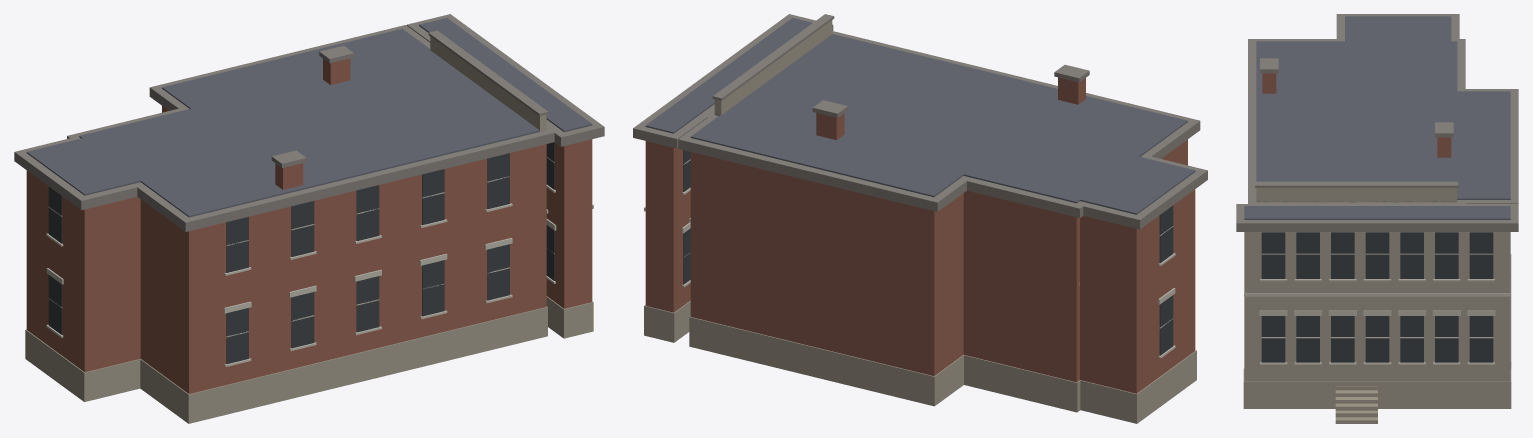
Rendered from goodman_house_1612_prairie__draft_1904.glb.
3 views of the same model, side by side, from view 1: azimuth 30°, elevation 25°; view 2: azimuth 150°, elevation 25°; view 3: azimuth 270°, elevation 25° (orthographic). The views are drawn at different scales.
Parts seen in each view (by area): view 1: goodman_house_1612_prairie__draft_1904; view 2: goodman_house_1612_prairie__draft_1904; view 3: goodman_house_1612_prairie__draft_1904.
Boxes of the visible parts, box(x1,y1,x2,y2) form: goodman_house_1612_prairie__draft_1904: box(14, 14, 604, 423); goodman_house_1612_prairie__draft_1904: box(633, 14, 1207, 423); goodman_house_1612_prairie__draft_1904: box(1236, 14, 1518, 423).
Size of the model in its own units: 22.15 by 10.04 by 11.95.
